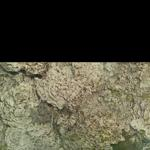dead: (1, 61, 146, 147)
